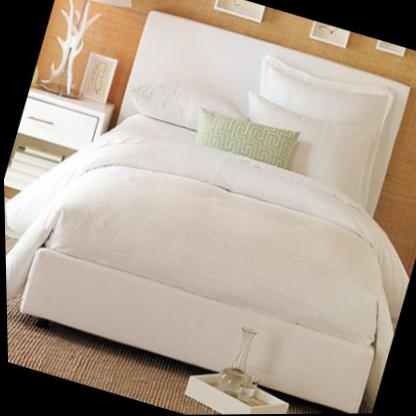Bed: (6, 0, 416, 416)
Carpet: (5, 309, 193, 408)
